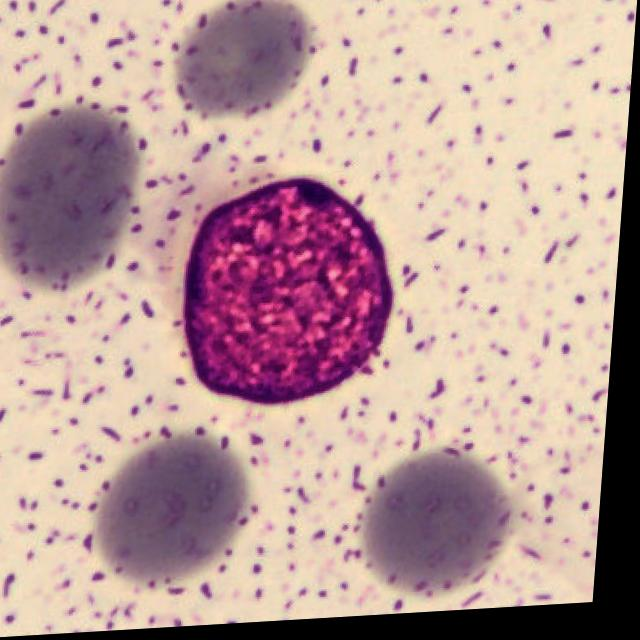Restos celulares: (187, 179, 400, 408)
